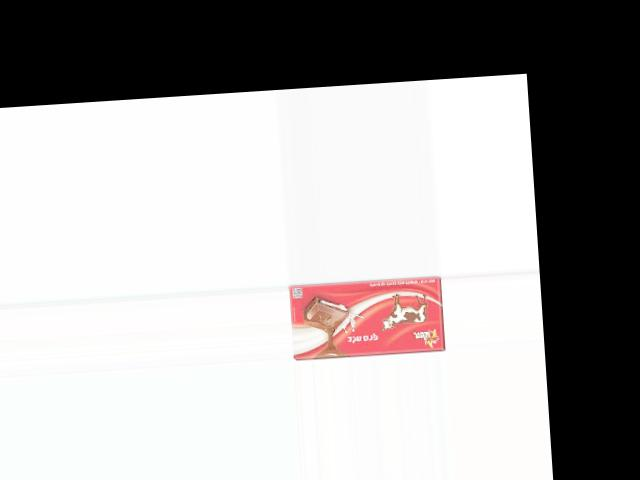chocolate: (289, 274, 448, 360)
